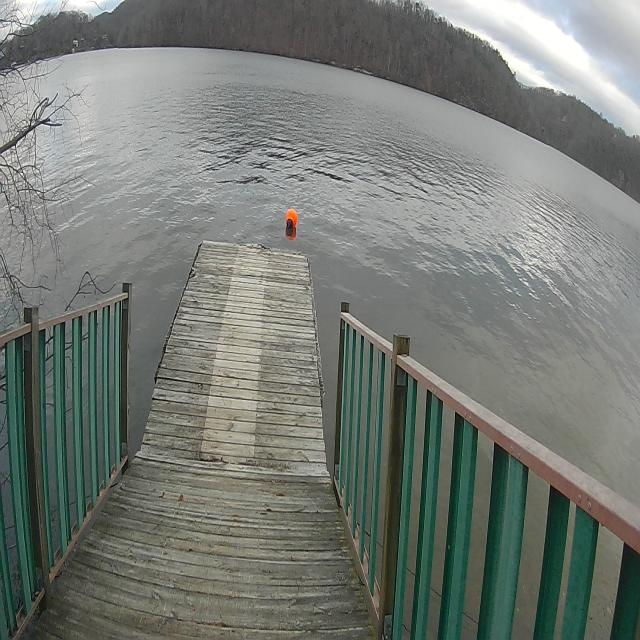Buoy: (284, 203, 300, 240)
